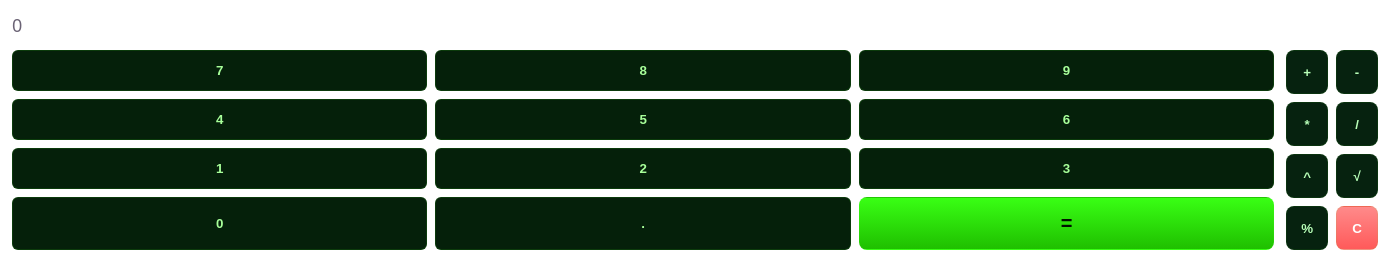
Test: TraditionalCalculator › calculates percentage correctly
What coordinates should you click on to do the following:
click the button "5"
I would click on:
 (643, 120)
Its box is 435,99 -> 851,140.
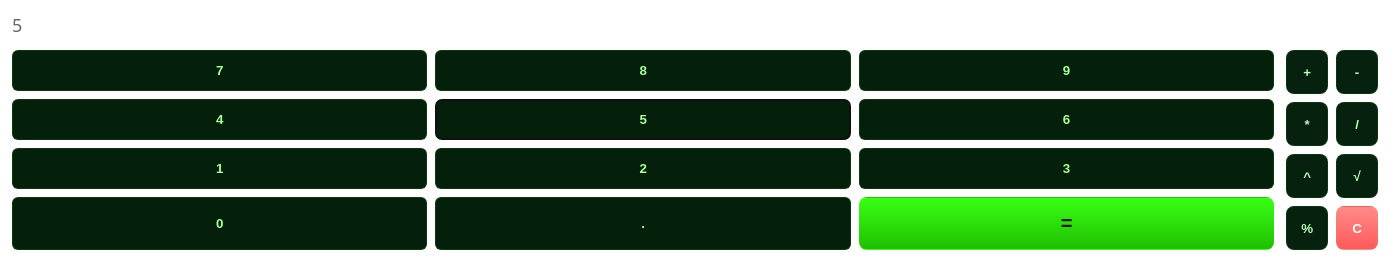
What coordinates should you click on to do the following:
click the button "0"
I would click on:
 (220, 224)
Its box is 12,197 -> 427,250.
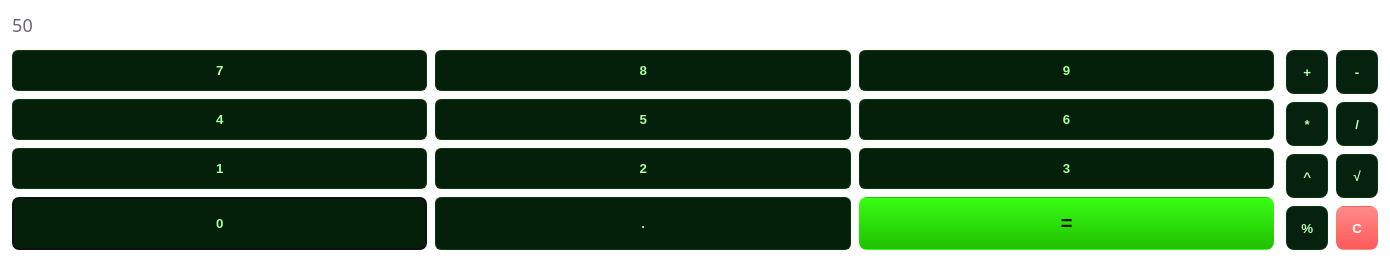
What coordinates should you click on to do the following:
click the button "%"
I would click on:
 (1307, 228)
Its box is 1286,206 -> 1328,250.
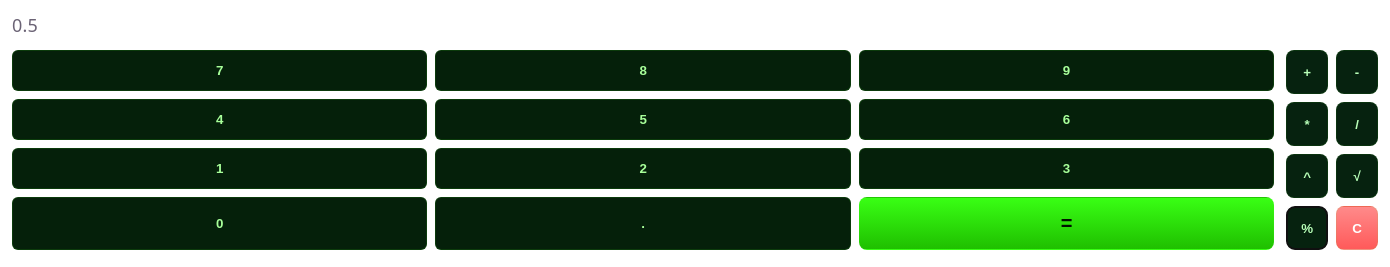
Expected: the message reads "0.5", 12,13 -> 38,37
